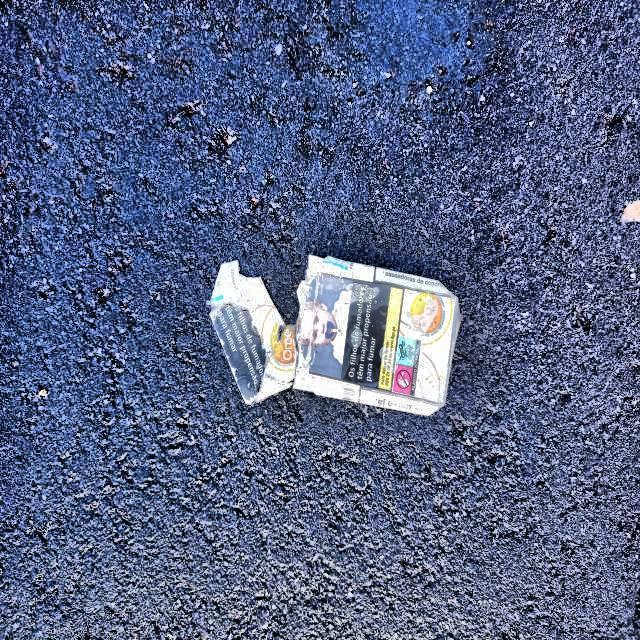cardboard: (209, 255, 462, 418)
